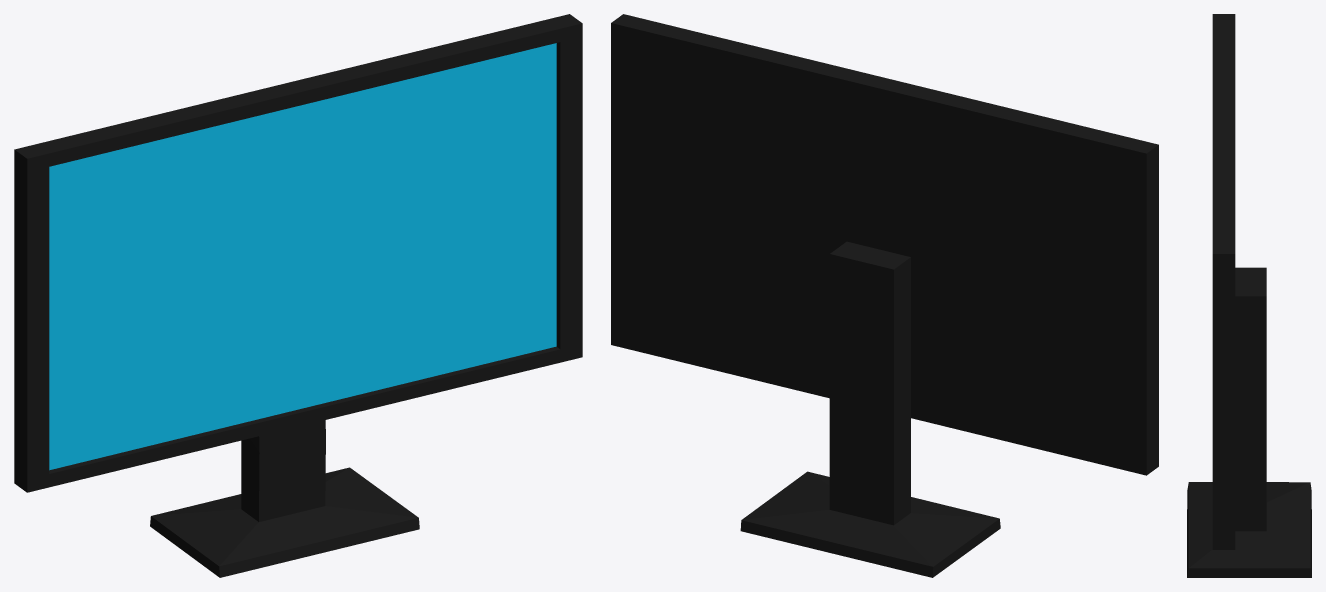
The picture shows the model from 3 angles, left to right: view 1: azimuth 30°, elevation 25°; view 2: azimuth 150°, elevation 25°; view 3: azimuth 270°, elevation 25°; orthographic projection. The views are drawn at different scales.
Parts seen in each view (by area): view 1: Cube.004; view 2: Cube.004; view 3: Cube.004.
Boxes of the visible parts, bbox=[...] form: Cube.004: bbox=[14, 14, 582, 577]; Cube.004: bbox=[611, 14, 1158, 577]; Cube.004: bbox=[1187, 14, 1311, 577].
Size of the model in its own units: 134 by 104 by 29.45.
